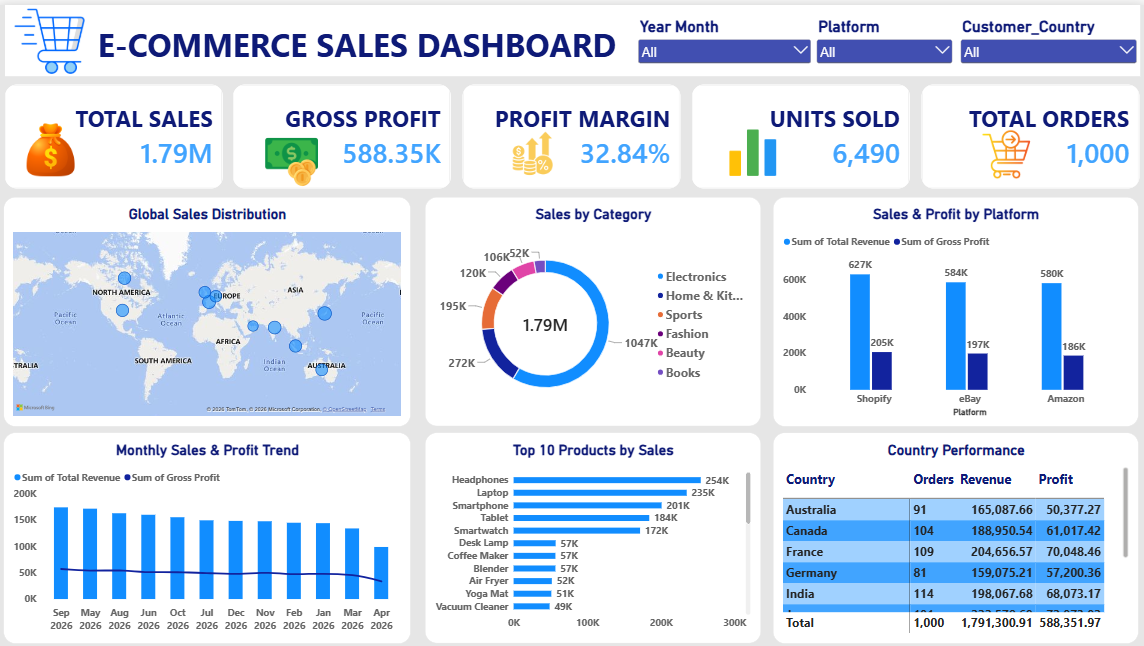

Layout of this report page (visuals, bound fields, positions):
{"tool":"powerbi","page":{"name":"E-Commerce Sales DashBoard","canvas":[1920,1080],"ordinal":0},"visuals":[{"type":"textbox","box":[14.3,0,1891.8,118.4],"z":0},{"type":"image","box":[14.3,2,149,116.3],"z":1000},{"type":"cardVisual","fields":{"Data":["Ecommerce_Sales_Data.Total Sales"]},"box":[14.3,132.7,363.3,173.5],"z":2000},{"type":"cardVisual","fields":{"Data":["Ecommerce_Sales_Data.Gross Profit KPI"]},"box":[393.9,132.7,363.3,173.5],"z":3000},{"type":"cardVisual","fields":{"Data":["Ecommerce_Sales_Data.Profit Margin %"]},"box":[777.6,132.7,363.3,173.5],"z":4000},{"type":"cardVisual","fields":{"Data":["Ecommerce_Sales_Data.Units Sold"]},"box":[1161.2,132.7,363.3,173.5],"z":5000},{"type":"cardVisual","fields":{"Data":["Ecommerce_Sales_Data.Total Orders"]},"box":[1542.9,132.7,363.3,173.5],"z":6000},{"type":"image","box":[34.7,198,112.2,87.8],"z":7000},{"type":"image","box":[410.2,218.4,165.3,87.8],"z":8000},{"type":"image","box":[1193.9,208.2,132.7,77.6],"z":9000},{"type":"image","box":[1618.4,204.1,132.7,87.8],"z":10000},{"type":"image","box":[810.2,208.2,169.4,79.6],"z":11000},{"type":"donutChart","title":"Sales by Category","fields":{"Category":["Ecommerce_Sales_Data.Product_Category"],"Y":["Sum(Ecommerce_Sales_Data.Total Revenue)"]},"box":[715.4,319.2,560,382],"z":12000},{"type":"clusteredColumnChart","title":"Sales & Profit by Platform","fields":{"Category":["Ecommerce_Sales_Data.Platform"],"Y":["Sum(Ecommerce_Sales_Data.Total Revenue)","Sum(Ecommerce_Sales_Data.Gross Profit)"]},"box":[1296.2,319.2,609,382.7],"z":13000},{"type":"lineStackedColumnComboChart","title":"Monthly Sales & Profit Trend","fields":{"Category":["Calendar.Month Year"],"Y":["Sum(Ecommerce_Sales_Data.Total Revenue)"],"Y2":["Sum(Ecommerce_Sales_Data.Gross Profit)"]},"box":[13.5,711.5,678.8,351.9],"z":14000},{"type":"barChart","title":"Top 10 Products by Sales","fields":{"Category":["Ecommerce_Sales_Data.Product_Name"],"Y":["Sum(Ecommerce_Sales_Data.Total Revenue)"]},"box":[715.4,713.5,560,351],"z":15000},{"type":"pivotTable","title":"Country Performance","fields":{"Rows":["Ecommerce_Sales_Data.Customer_Country"],"Values":["Ecommerce_Sales_Data.Total Orders","Sum(Ecommerce_Sales_Data.Total Revenue)","Sum(Ecommerce_Sales_Data.Gross Profit)"]},"box":[1296.2,711.5,609.6,351.9],"z":16000},{"type":"map","title":"Global Sales Distribution","fields":{"Category":["Ecommerce_Sales_Data.Customer_Country"],"Size":["Sum(Ecommerce_Sales_Data.Total Revenue)"]},"box":[13.5,319.2,678.8,382.7],"z":17000},{"type":"slicer","fields":{"Values":["Calendar.Year Month"]},"box":[1065.4,21.2,298.1,98.1],"z":18000},{"type":"slicer","fields":{"Values":["Ecommerce_Sales_Data.Platform"]},"box":[1363.5,21.2,236.5,98.1],"z":19000},{"type":"slicer","fields":{"Values":["Ecommerce_Sales_Data.Customer_Country"]},"box":[1601.9,21.2,303.8,98.1],"z":20000}]}

Visuals, with their boxes in screenshot pixels (x1, y1, x2, y2), scaled from the page's 1920x1080 canvas onto the 1144x646 screenshot:
textbox: [9, 0, 1136, 71]
image: [9, 1, 97, 71]
cardVisual - Ecommerce_Sales_Data.Total Sales: [9, 79, 225, 183]
cardVisual - Ecommerce_Sales_Data.Gross Profit KPI: [235, 79, 451, 183]
cardVisual - Ecommerce_Sales_Data.Profit Margin %: [463, 79, 680, 183]
cardVisual - Ecommerce_Sales_Data.Units Sold: [692, 79, 908, 183]
cardVisual - Ecommerce_Sales_Data.Total Orders: [919, 79, 1136, 183]
image: [21, 118, 88, 171]
image: [244, 131, 343, 183]
image: [711, 125, 790, 171]
image: [964, 122, 1043, 175]
image: [483, 125, 584, 172]
"Sales by Category" donutChart: [426, 191, 760, 419]
"Sales & Profit by Platform" clusteredColumnChart: [772, 191, 1135, 420]
"Monthly Sales & Profit Trend" lineStackedColumnComboChart: [8, 426, 412, 636]
"Top 10 Products by Sales" barChart: [426, 427, 760, 637]
"Country Performance" pivotTable: [772, 426, 1136, 636]
"Global Sales Distribution" map: [8, 191, 412, 420]
slicer - Calendar.Year Month: [635, 13, 812, 71]
slicer - Ecommerce_Sales_Data.Platform: [812, 13, 953, 71]
slicer - Ecommerce_Sales_Data.Customer_Country: [954, 13, 1135, 71]
